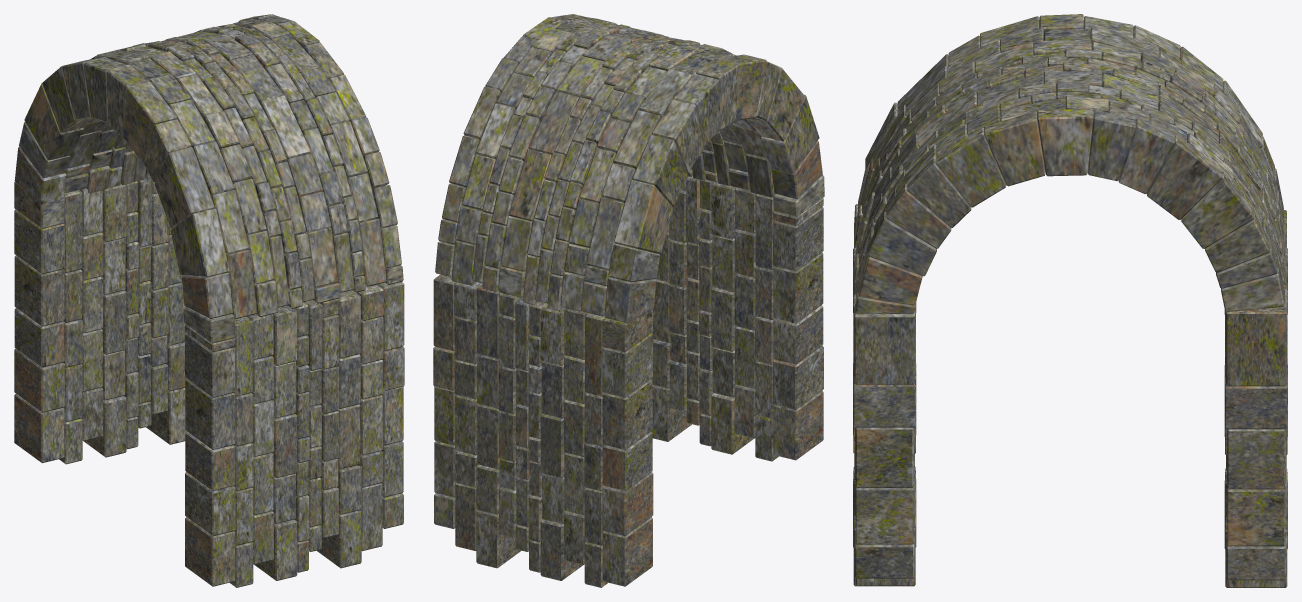
The model's file is archwaydoor.fbx.
3 renders of one model, left to right at view 1: azimuth 30°, elevation 25°; view 2: azimuth 150°, elevation 25°; view 3: azimuth 270°, elevation 25°, orthographic. The views are drawn at different scales.
Parts seen in each view (by area): view 1: Wall.031; view 2: Wall.031; view 3: Wall.031.
Boxes of the visible parts, x1,y1,x2,y2 form: Wall.031: (14,14,404,587); Wall.031: (433,14,824,587); Wall.031: (853,14,1287,587).
Bounding box in the file's own units: 298 × 671 × 533.
